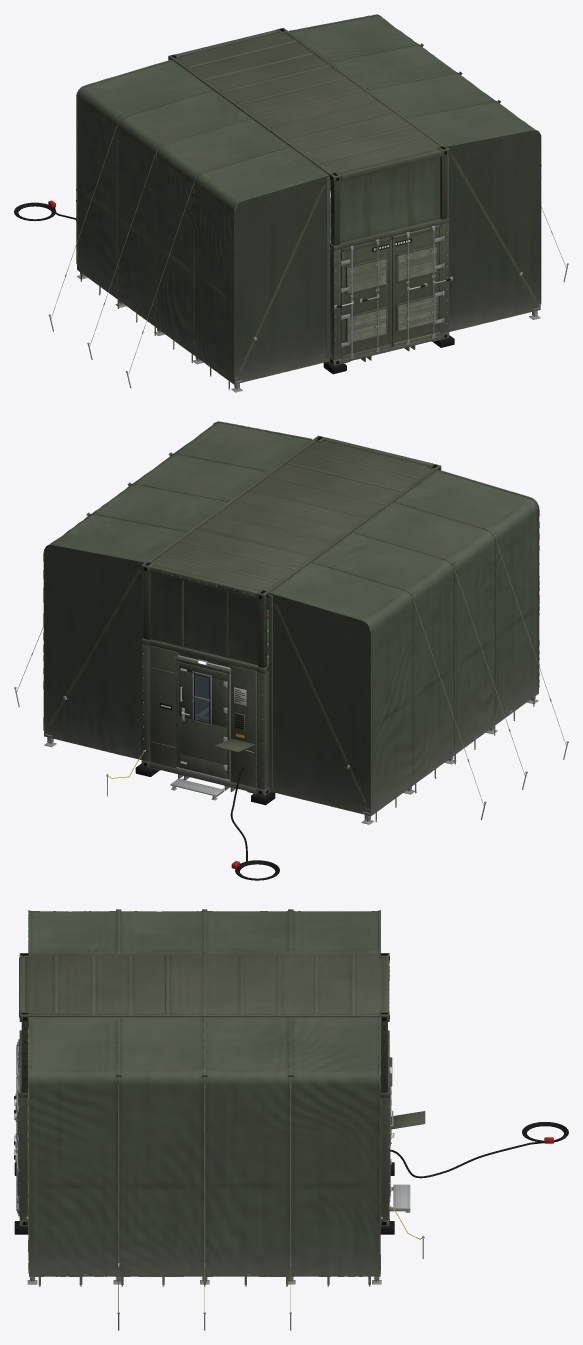
Rendered from ehmecc-deployed-fitted.glb.
3 views of the same model, one above another, from view 1: azimuth 30°, elevation 25°; view 2: azimuth 150°, elevation 25°; view 3: azimuth 270°, elevation 25° (orthographic). The views are drawn at different scales.
Parts seen in each view (by area): view 1: EHMECC_expansion_L, EHMECC_expansion_R, EHMECC_roof, EHMECC_core, EHMECC_roof_panels; view 2: EHMECC_expansion_L, EHMECC_expansion_R, EHMECC_roof, EHMECC_core, EHMECC_roof_panels, EHMECC_site_kit; view 3: EHMECC_expansion_R, EHMECC_roof, EHMECC_expansion_L, EHMECC_core, EHMECC_site_kit.
Boxes of the visible parts, box(x1,y1,x2,y2) form: EHMECC_expansion_L: box(48, 59, 330, 392); EHMECC_expansion_R: box(288, 14, 568, 331); EHMECC_roof: box(168, 28, 449, 245); EHMECC_core: box(323, 217, 454, 374); EHMECC_roof_panels: box(340, 157, 440, 242); EHMECC_expansion_L: box(268, 470, 568, 824); EHMECC_expansion_R: box(14, 421, 312, 760); EHMECC_roof: box(141, 435, 441, 667); EHMECC_core: box(135, 638, 275, 805); EHMECC_roof_panels: box(151, 573, 258, 665); EHMECC_site_kit: box(106, 750, 279, 880); EHMECC_expansion_R: box(26, 1017, 382, 1330); EHMECC_roof: box(19, 953, 389, 1092); EHMECC_expansion_L: box(28, 909, 380, 953); EHMECC_core: box(14, 1030, 425, 1234); EHMECC_site_kit: box(389, 1122, 568, 1258).
Size of the model in its own units: 9.34 by 4.23 by 9.09.
Materials: 62 (19 with a texture image).
